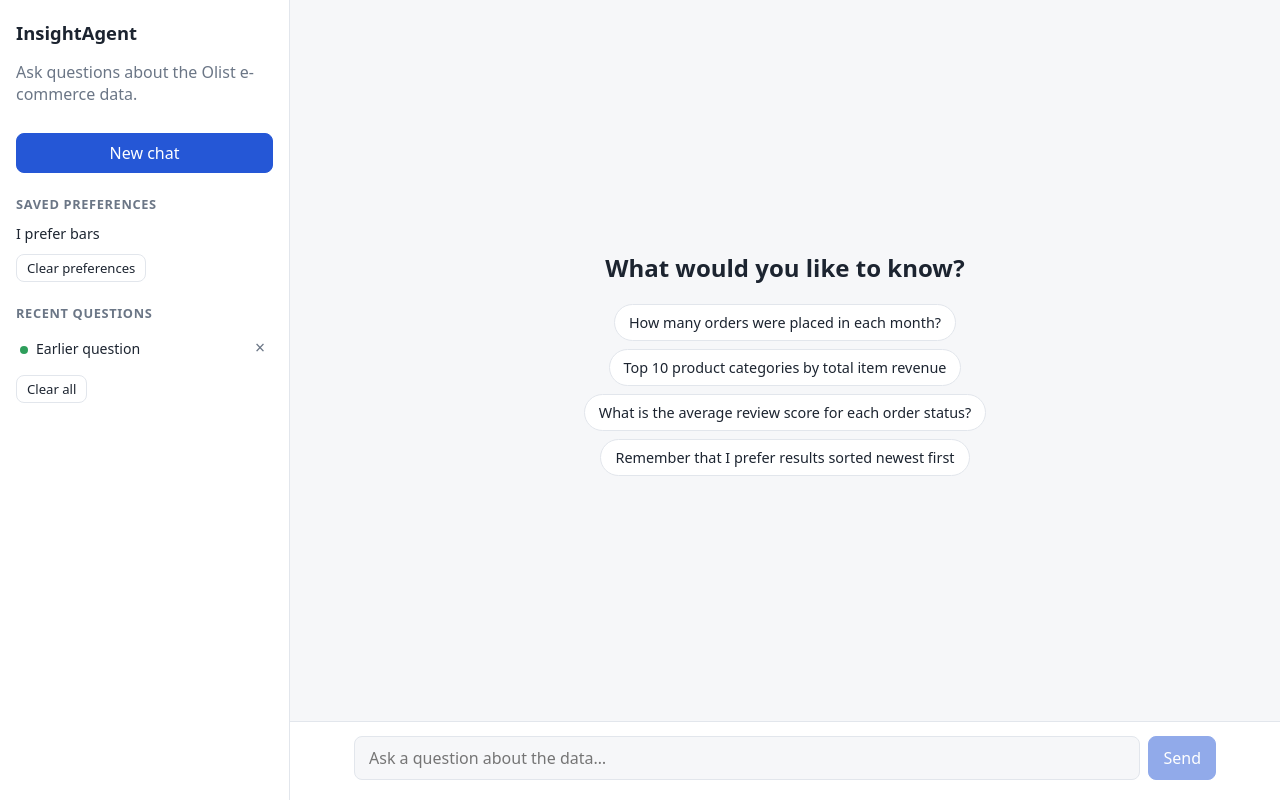
Scenario: App › starts a new chat
The image size is (1280, 800).
In the field labelled "question": (747, 758) x1=354 y1=736 x2=1140 y2=780, type "first"
Then press Enter
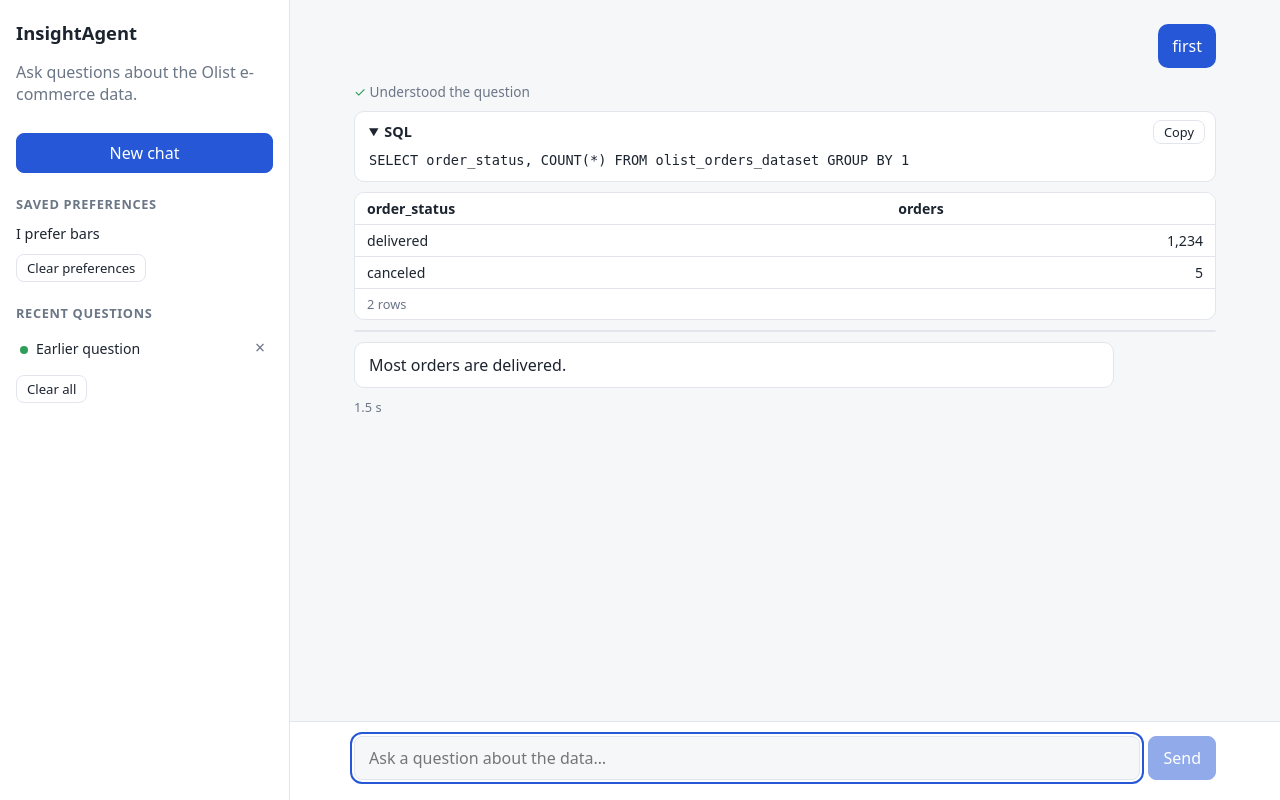
Expected: the text "Most orders are delivered." is shown, x1=354 y1=342 x2=1114 y2=388
Click the button "New chat": (144, 153) x1=16 y1=133 x2=273 y2=173
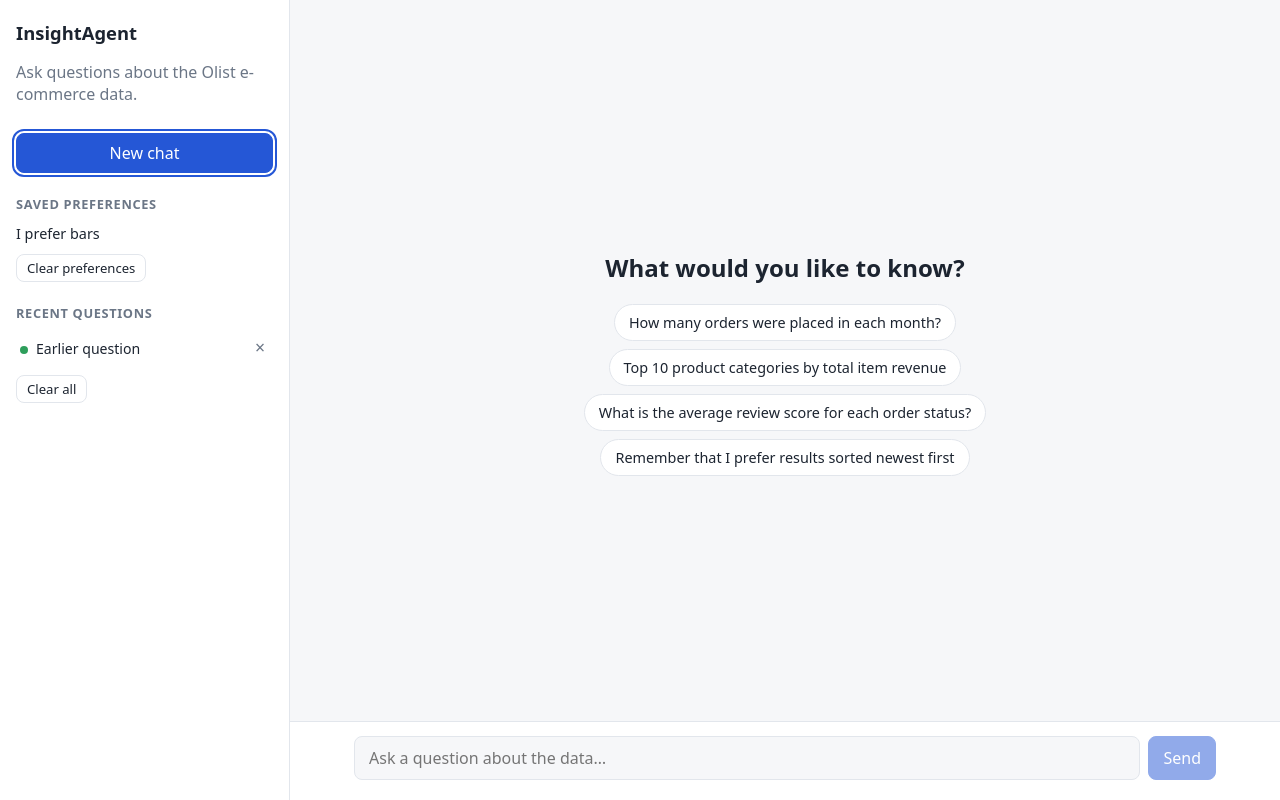
Expected: the text "Most orders are delivered." is gone
Expected: the heading "What would you like to know?" is shown, x1=605 y1=251 x2=965 y2=284
